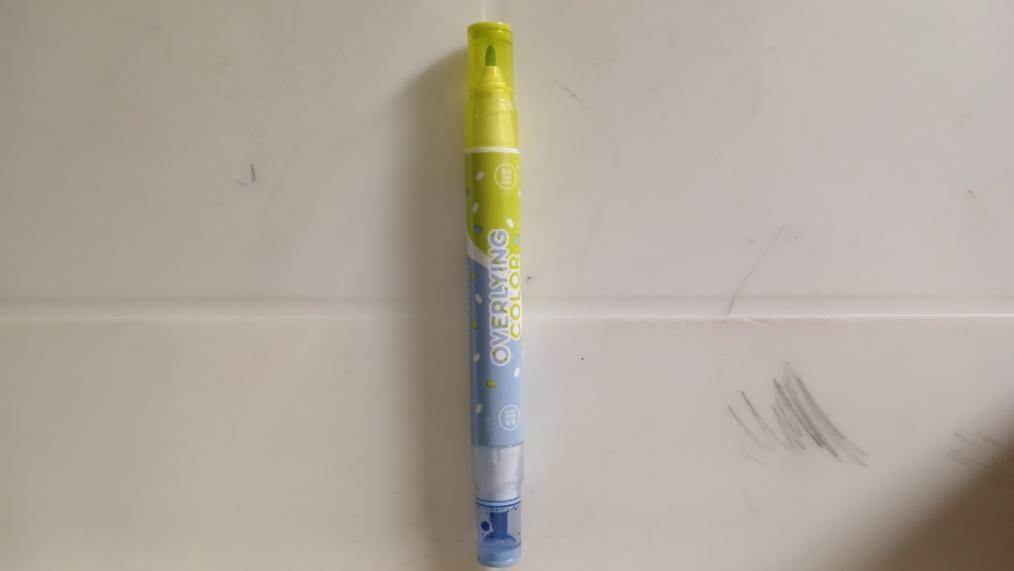Highlighter: (470, 22, 522, 571)
